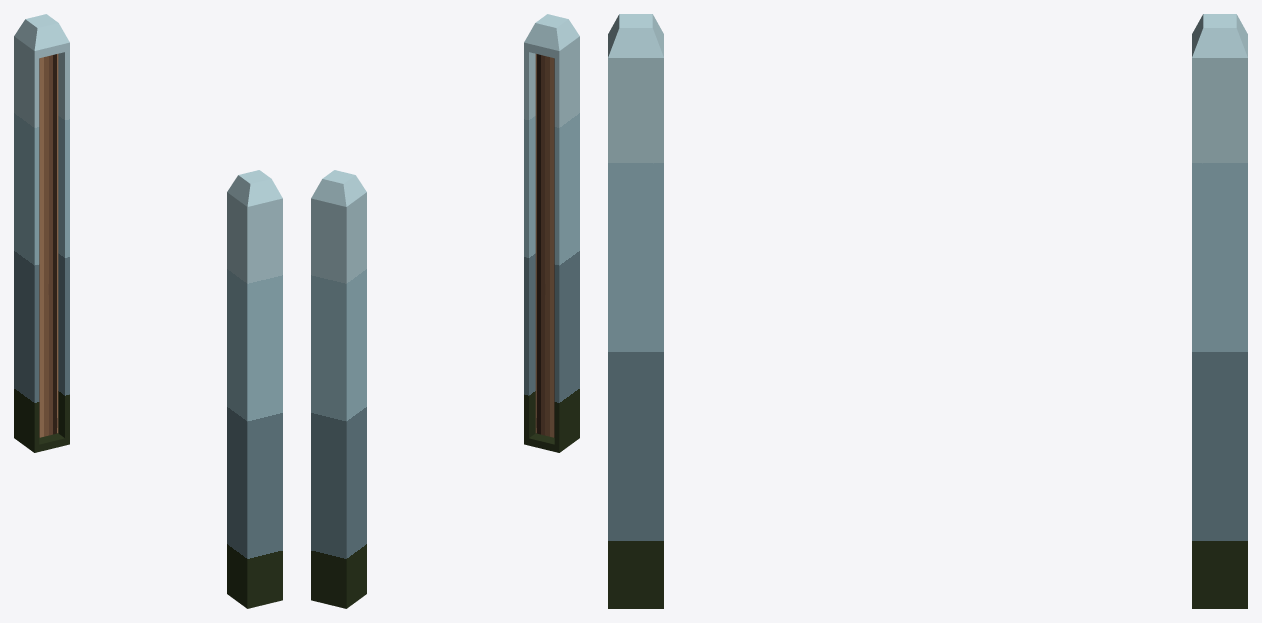
The model's file is LaserWallOff.glb.
3 views of the same model, side by side, from view 1: azimuth 30°, elevation 25°; view 2: azimuth 150°, elevation 25°; view 3: azimuth 270°, elevation 25° (orthographic). The views are drawn at different scales.
Visible parts, largest first — view 1: LaserWallOff; view 2: LaserWallOff; view 3: LaserWallOff.
Part boxes in pixels (x1=…): LaserWallOff: x1=14, y1=14, x2=282, y2=608; LaserWallOff: x1=311, y1=14, x2=579, y2=608; LaserWallOff: x1=608, y1=14, x2=1247, y2=608.
Size of the model in its own units: 0.2 by 2.27 by 2.28.
Materials: 1 (1 with a texture image).
